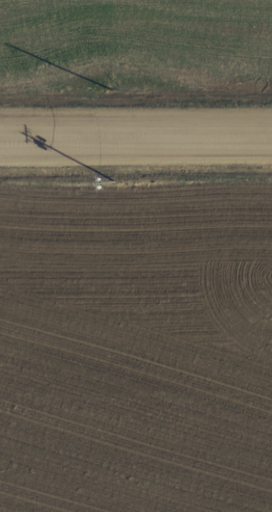DT: (87, 173, 122, 194)
